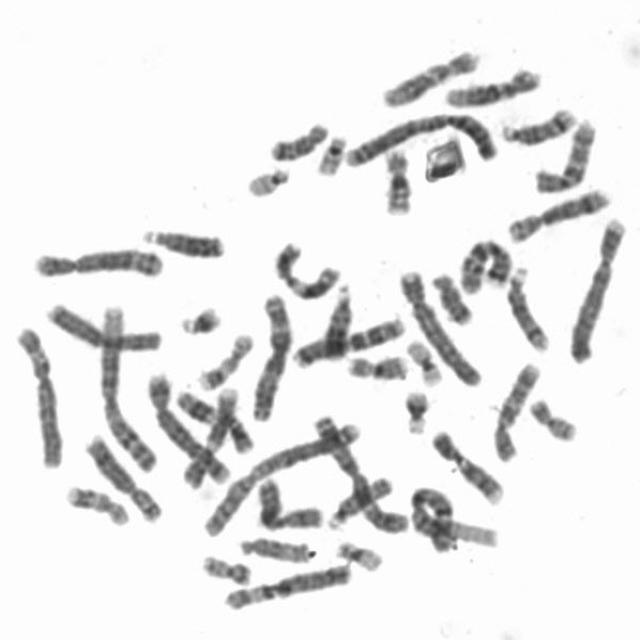A1: (93, 295, 161, 473), (406, 480, 503, 551)
A2: (197, 411, 366, 538), (339, 105, 501, 169)
A3: (308, 408, 413, 536), (245, 286, 295, 422)
B4: (394, 262, 487, 388), (563, 210, 629, 366)
B5: (142, 368, 236, 485), (28, 241, 167, 280)
C10: (487, 356, 544, 464), (529, 112, 600, 195)
C11: (174, 384, 257, 456), (270, 236, 344, 302)
C12: (378, 44, 484, 110), (439, 61, 545, 108)
C6: (9, 319, 65, 471), (220, 556, 356, 613)
C7: (289, 311, 408, 369), (455, 232, 515, 295)
C8: (79, 427, 167, 525), (502, 181, 613, 244)
C9: (177, 382, 240, 489), (426, 424, 507, 507)
D13: (138, 220, 228, 260), (322, 279, 354, 362)
D14: (501, 262, 553, 354), (497, 101, 580, 147)
D15: (322, 468, 396, 530), (233, 531, 315, 565)
E16: (379, 142, 416, 217), (341, 348, 412, 382)
E17: (192, 326, 255, 392), (60, 478, 132, 528)
E18: (264, 115, 331, 163), (426, 266, 476, 326)
F19: (402, 333, 446, 388), (331, 534, 386, 572)
F20: (524, 392, 580, 444), (197, 549, 254, 587)
G21: (174, 300, 225, 338), (398, 384, 432, 436)
G22: (241, 160, 293, 198), (311, 129, 349, 178)
X: (41, 296, 166, 354), (250, 473, 326, 531)
